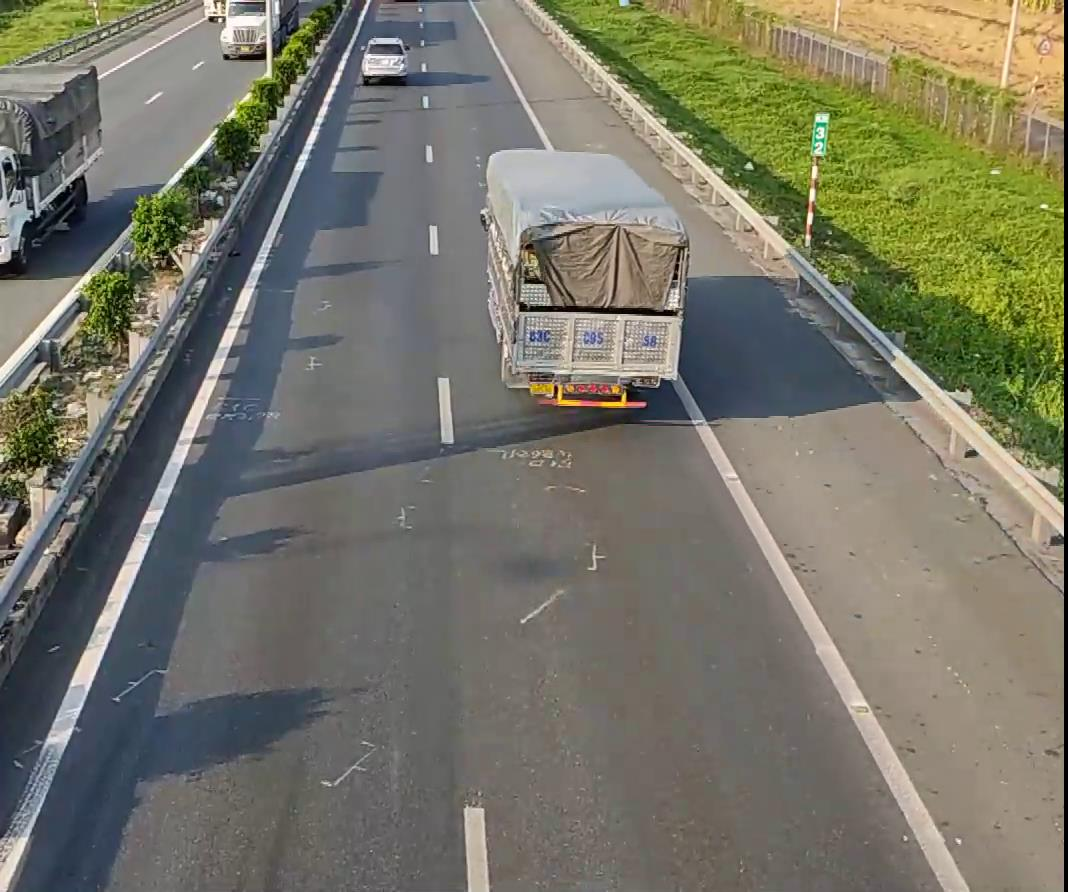truck: (478, 145, 691, 413), (0, 60, 103, 275)
